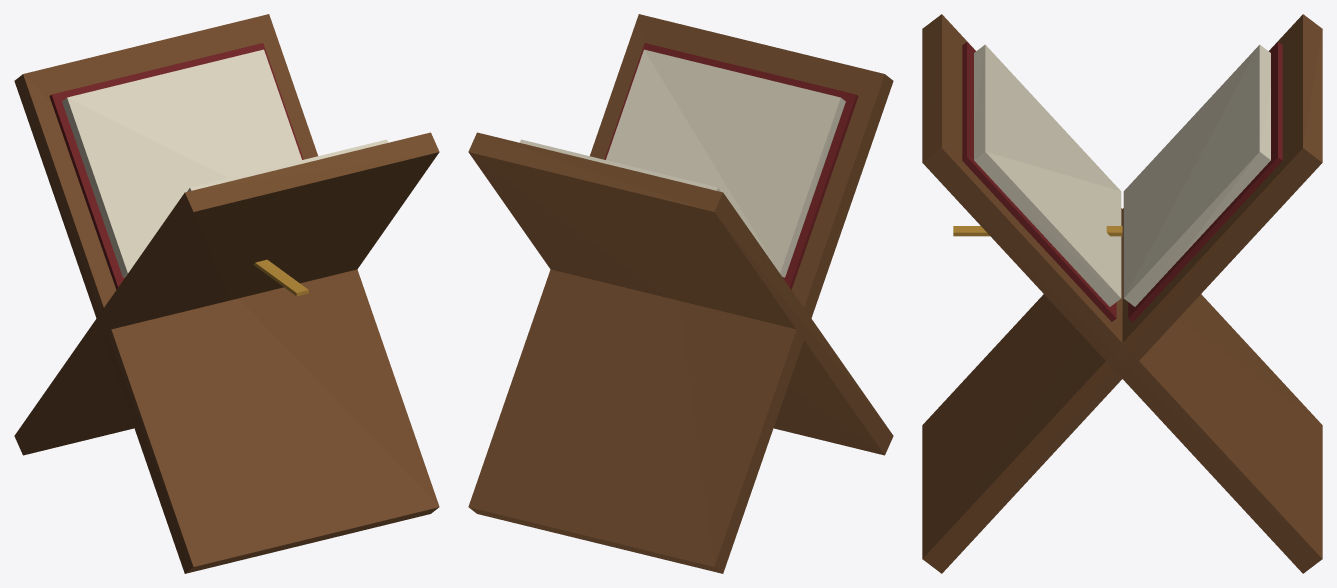
The model's file is ZB_obje_rahle.glb.
3 renders of one model, left to right at view 1: azimuth 30°, elevation 25°; view 2: azimuth 150°, elevation 25°; view 3: azimuth 270°, elevation 25°, orthographic. The views are drawn at different scales.
Visible parts, largest first — view 1: ZB_obje_rahle; view 2: ZB_obje_rahle; view 3: ZB_obje_rahle.
Boxes of the visible parts, box(x1,y1,x2,y2) form: ZB_obje_rahle: box(14, 14, 439, 573); ZB_obje_rahle: box(468, 14, 893, 573); ZB_obje_rahle: box(922, 14, 1322, 573).
Bounding box in the file's own units: 0.3 × 0.4444 × 0.3783.
